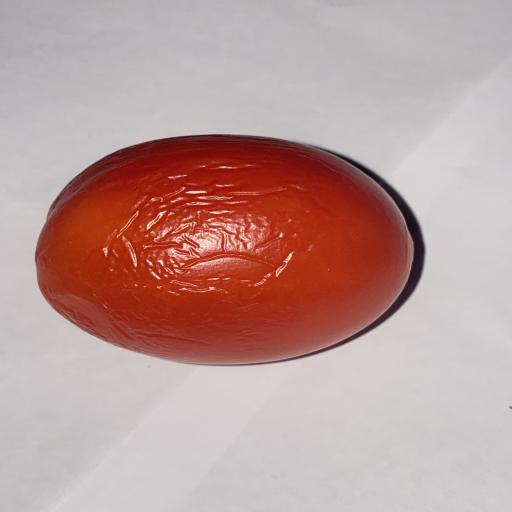spoiled: (36, 135, 413, 364), (37, 135, 413, 364)
